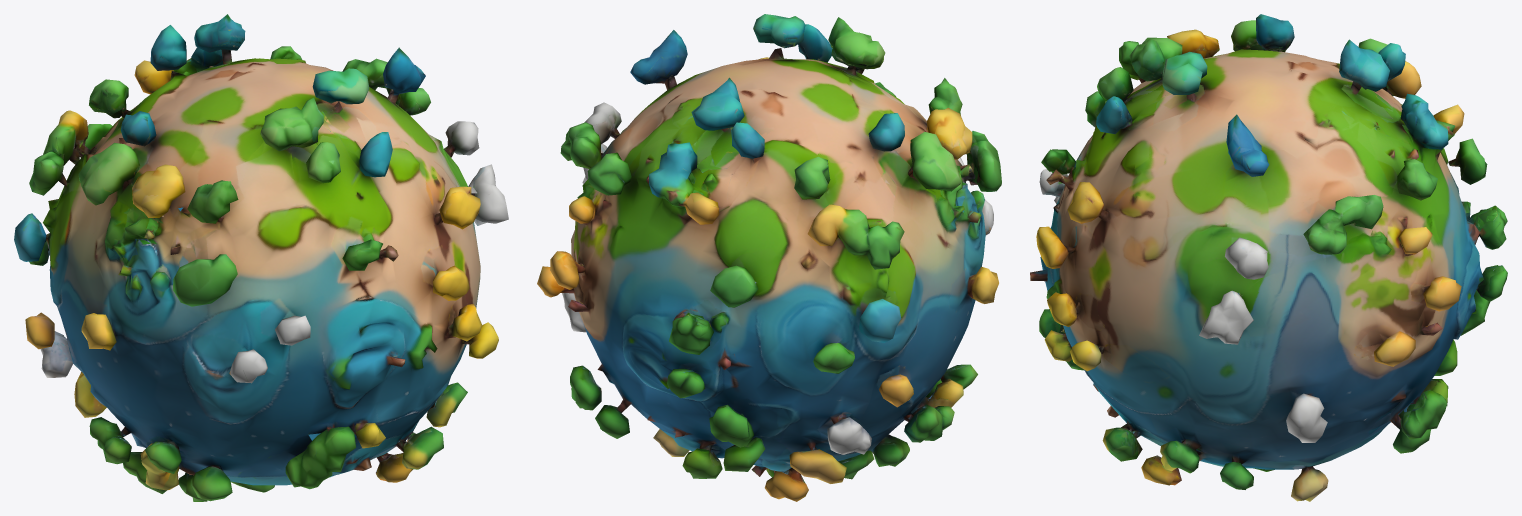
File: Miniature-Globe_draco.glb
3 renders of one model, left to right at view 1: azimuth 30°, elevation 25°; view 2: azimuth 150°, elevation 25°; view 3: azimuth 270°, elevation 25°, orthographic. The views are drawn at different scales.
Bounding box in the file's own units: 2 × 2.01 × 1.99.
Materials: 1 (1 with a texture image).
